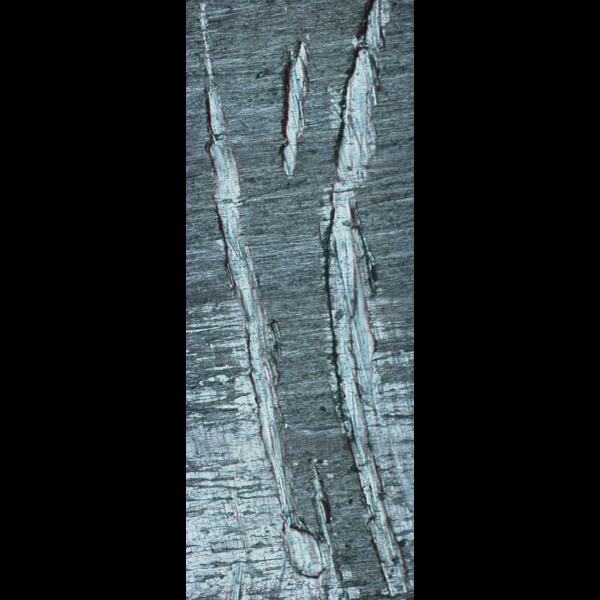d: (188, 3, 359, 599), (320, 0, 413, 599), (273, 37, 316, 184)
